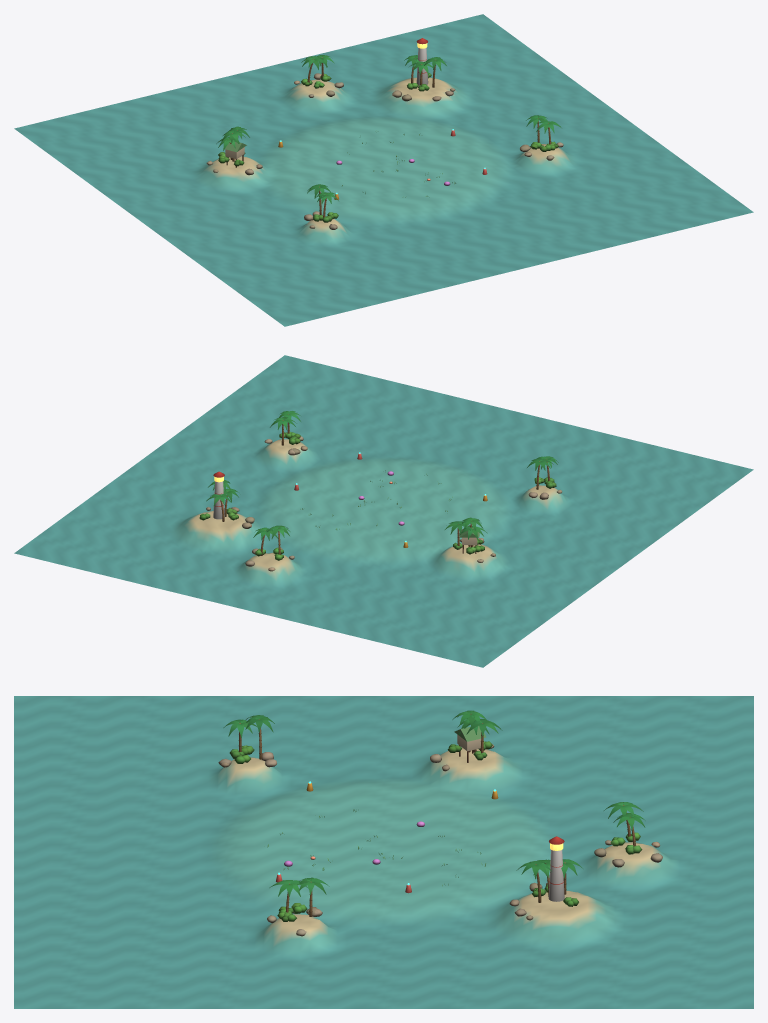
Rendered from journey_atolls.glb.
3 renders of one model, top to bottom at view 1: azimuth 30°, elevation 25°; view 2: azimuth 150°, elevation 25°; view 3: azimuth 270°, elevation 25°, orthographic. The views are drawn at different scales.
Parts seen in each view (by area): view 1: Scenery_Journey Ground.007, Scenery_Journey Foliage.005, Scenery_Journey Stone.007; view 2: Scenery_Journey Ground.007, Scenery_Journey Foliage.005, Scenery_Journey Stone.007; view 3: Scenery_Journey Ground.007, Scenery_Journey Foliage.005, Scenery_Journey Stone.007, Scenery_Journey Plaster.005, Scenery_Journey Bark.003.
Boxes of the visible parts, x1=… form: Scenery_Journey Ground.007: x1=14, y1=14, x2=753, y2=326; Scenery_Journey Foliage.005: x1=216, y1=55, x2=561, y2=222; Scenery_Journey Stone.007: x1=206, y1=73, x2=563, y2=229; Scenery_Journey Ground.007: x1=14, y1=355, x2=753, y2=667; Scenery_Journey Foliage.005: x1=199, y1=411, x2=558, y2=560; Scenery_Journey Stone.007: x1=206, y1=436, x2=562, y2=571; Scenery_Journey Ground.007: x1=14, y1=696, x2=753, y2=1008; Scenery_Journey Foliage.005: x1=223, y1=710, x2=645, y2=921; Scenery_Journey Stone.007: x1=218, y1=744, x2=662, y2=936; Scenery_Journey Plaster.005: x1=548, y1=850, x2=564, y2=901; Scenery_Journey Bark.003: x1=238, y1=713, x2=635, y2=916.
Size of what is drawn, in the model's own units: 120 by 14.9 by 120.
